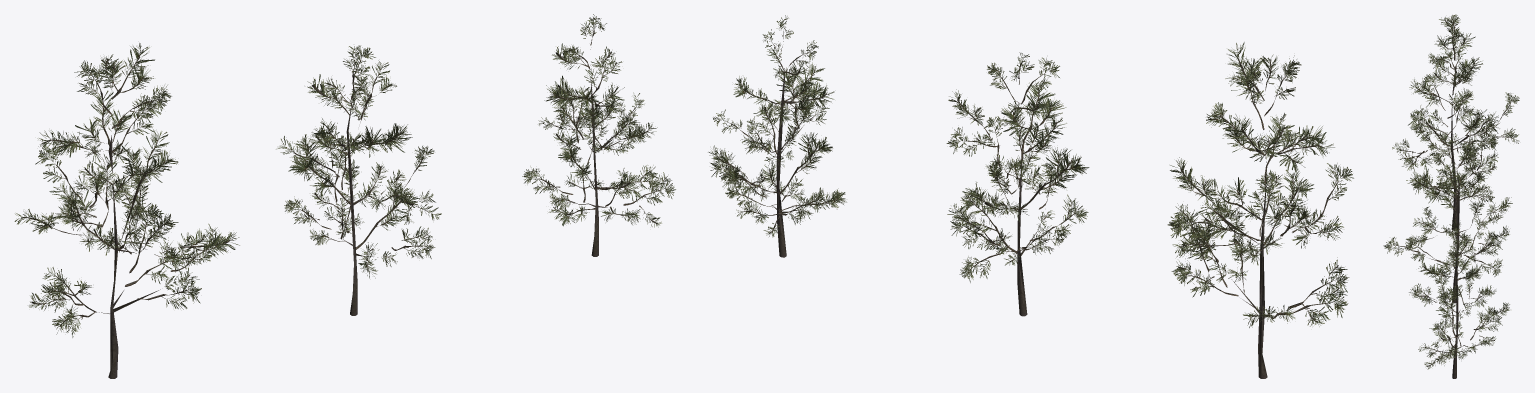
Rendered from PineSapling.glb.
3 views of the same model, side by side, from view 1: azimuth 30°, elevation 25°; view 2: azimuth 150°, elevation 25°; view 3: azimuth 270°, elevation 25° (orthographic). The views are drawn at different scales.
Visible parts, largest first — view 1: pine_sapling_small_a, pine_sapling_small_b, pine_sapling_small_c; view 2: pine_sapling_small_a, pine_sapling_small_b, pine_sapling_small_c; view 3: pine_sapling_small_a, pine_sapling_small_b, pine_sapling_small_c.
Part boxes in pixels (x1,y1,x2,y2): pine_sapling_small_a: [14, 43, 239, 378]; pine_sapling_small_b: [276, 45, 441, 315]; pine_sapling_small_c: [522, 14, 675, 256]; pine_sapling_small_a: [1167, 42, 1353, 378]; pine_sapling_small_b: [946, 52, 1089, 316]; pine_sapling_small_c: [708, 15, 846, 257]; pine_sapling_small_a: [1392, 14, 1519, 230]; pine_sapling_small_b: [1383, 133, 1512, 303]; pine_sapling_small_c: [1409, 222, 1509, 378].
Size of the model in its own units: 2.64 by 1.3 by 0.7699.
2 materials, 2 textured.
